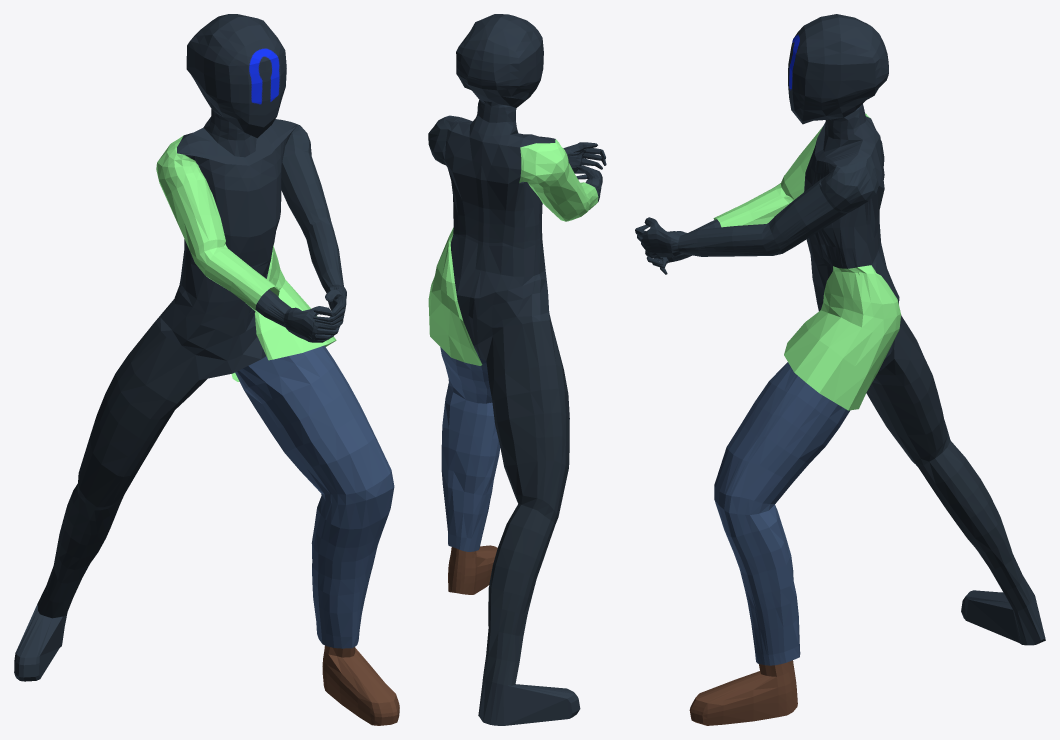
Rendered from Mar_WR_000018.obj.
3 renders of one model, left to right at view 1: azimuth 30°, elevation 25°; view 2: azimuth 150°, elevation 25°; view 3: azimuth 270°, elevation 25°, orthographic. The views are drawn at different scales.
Visible parts, largest first — view 1: Cube.000_Cube.001; view 2: Cube.000_Cube.001; view 3: Cube.000_Cube.001.
Boxes of the visible parts, box(x1,y1,x2,y2) form: Cube.000_Cube.001: box(14, 14, 399, 725); Cube.000_Cube.001: box(428, 14, 606, 725); Cube.000_Cube.001: box(635, 14, 1045, 725).
Bounding box in the file's own units: 1.46 × 3.71 × 2.07.
